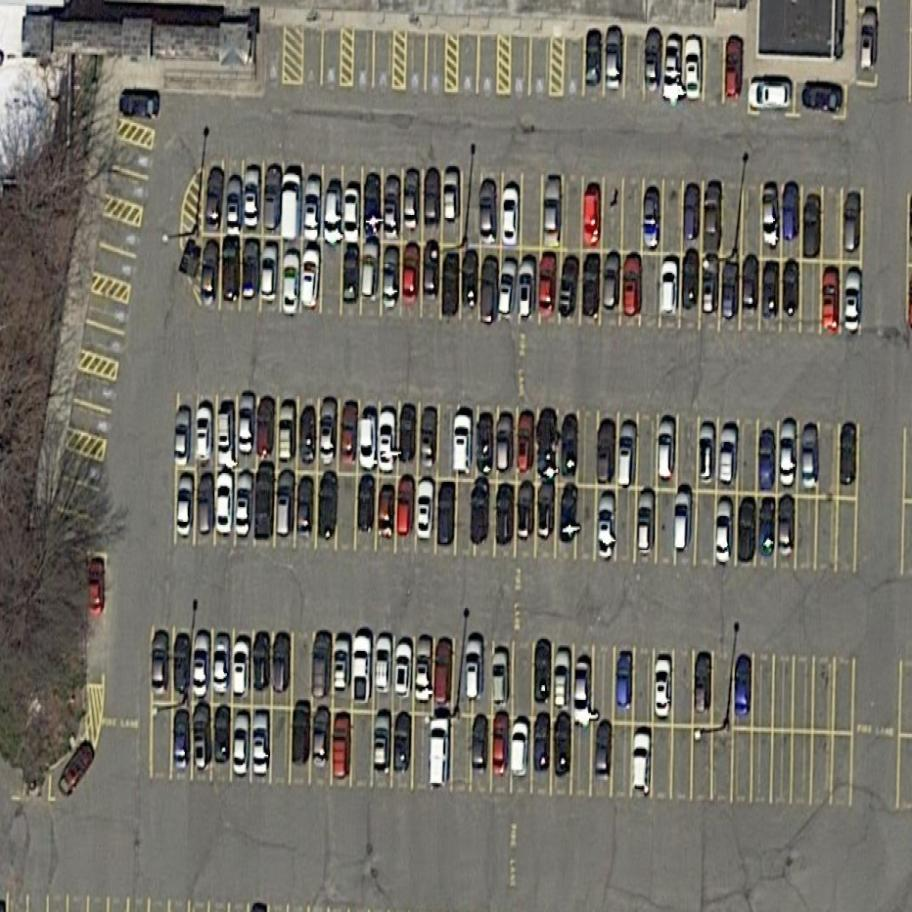small-vehicle: (53, 738, 102, 800), (556, 258, 582, 319), (254, 467, 275, 540), (536, 411, 558, 479), (495, 260, 520, 319), (800, 82, 845, 114), (429, 718, 449, 789), (318, 473, 339, 540), (275, 472, 296, 537), (750, 79, 794, 110), (353, 635, 372, 706), (282, 172, 302, 239), (339, 403, 360, 466), (170, 409, 192, 469), (598, 492, 617, 561), (234, 473, 254, 538), (715, 501, 734, 568), (237, 394, 258, 454), (205, 168, 225, 231), (534, 641, 554, 704), (311, 635, 332, 695), (436, 483, 456, 546), (222, 237, 241, 303), (545, 179, 563, 248), (662, 39, 682, 101), (479, 183, 499, 245), (320, 399, 339, 464), (194, 703, 212, 771), (632, 734, 652, 795), (175, 478, 195, 538), (196, 475, 216, 535), (415, 480, 435, 540), (822, 271, 841, 334), (480, 260, 499, 323), (233, 715, 251, 780), (780, 423, 798, 488), (722, 262, 742, 320), (256, 399, 276, 457), (359, 414, 379, 472), (845, 271, 864, 332), (397, 408, 418, 463), (540, 255, 558, 319), (443, 255, 461, 319), (415, 639, 433, 703), (573, 661, 591, 725), (622, 257, 642, 314), (282, 255, 301, 315), (251, 633, 271, 690), (272, 633, 291, 693), (357, 476, 377, 533), (334, 713, 351, 780), (173, 710, 191, 773), (471, 480, 489, 543), (561, 415, 579, 478), (253, 713, 270, 779), (725, 40, 744, 99), (215, 475, 234, 534), (582, 257, 601, 316), (213, 706, 232, 765), (465, 639, 484, 698), (361, 242, 381, 298), (840, 424, 858, 486), (619, 424, 637, 486), (119, 92, 160, 119), (803, 200, 822, 258), (403, 246, 422, 304), (396, 479, 415, 537), (762, 185, 780, 246), (244, 168, 262, 229), (496, 485, 514, 546), (379, 411, 397, 472), (698, 424, 716, 485), (674, 492, 692, 553), (646, 28, 663, 92), (436, 639, 452, 707), (638, 492, 655, 556), (643, 192, 661, 252), (305, 179, 322, 242), (314, 707, 331, 770), (502, 190, 521, 246), (364, 176, 382, 235), (598, 421, 616, 480), (739, 500, 756, 562), (195, 406, 214, 461), (302, 252, 321, 307), (533, 718, 552, 773), (537, 485, 556, 540), (762, 261, 780, 319), (325, 185, 343, 243), (583, 188, 601, 246), (512, 721, 530, 779), (554, 651, 572, 709), (454, 417, 472, 475), (420, 411, 438, 469), (278, 407, 297, 461), (844, 194, 862, 251), (264, 171, 282, 228), (603, 254, 621, 311), (424, 244, 442, 301), (492, 652, 510, 709), (802, 429, 820, 486), (203, 243, 219, 307), (261, 243, 278, 303), (383, 249, 400, 309), (655, 658, 672, 718), (477, 415, 494, 475), (702, 257, 720, 313), (661, 260, 679, 316), (343, 189, 361, 245), (153, 632, 169, 695), (736, 655, 752, 718), (298, 408, 317, 461), (462, 251, 479, 310), (293, 706, 310, 765), (659, 420, 676, 479), (686, 39, 702, 101), (194, 635, 210, 697), (682, 255, 700, 310), (684, 187, 702, 242), (586, 31, 604, 86), (342, 248, 360, 303), (615, 652, 633, 707), (243, 240, 260, 298), (520, 261, 537, 319), (424, 172, 441, 230), (395, 713, 412, 771), (554, 718, 571, 776), (695, 654, 712, 712), (517, 415, 534, 473), (759, 433, 776, 491), (607, 30, 623, 91), (779, 497, 795, 558), (174, 636, 191, 693), (561, 486, 578, 543), (384, 179, 400, 239), (473, 716, 489, 776), (87, 562, 105, 615), (862, 12, 879, 68), (297, 479, 314, 535), (720, 427, 737, 483), (444, 172, 463, 222), (493, 715, 509, 774), (234, 642, 251, 697), (405, 172, 421, 230), (227, 178, 243, 236), (214, 636, 230, 694), (760, 500, 776, 558), (395, 644, 412, 698), (517, 483, 534, 537), (376, 636, 392, 693), (497, 415, 513, 472), (704, 185, 721, 238), (218, 411, 234, 467), (743, 257, 760, 308), (597, 722, 611, 783), (334, 638, 350, 691), (379, 486, 395, 539), (783, 261, 799, 313), (784, 185, 799, 240)
